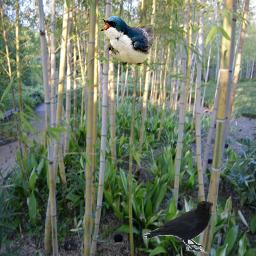Crow: (143, 201, 213, 252)
Swallow: (98, 14, 154, 67)
